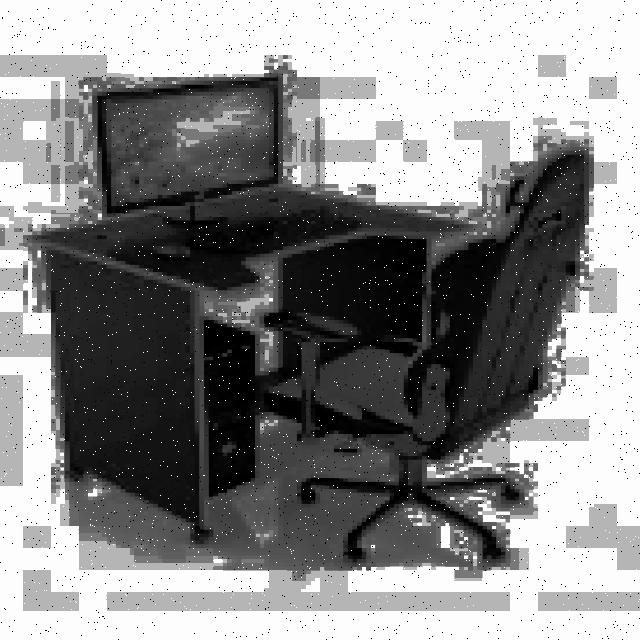book: (264, 147, 594, 563)
table: (32, 184, 482, 541)
